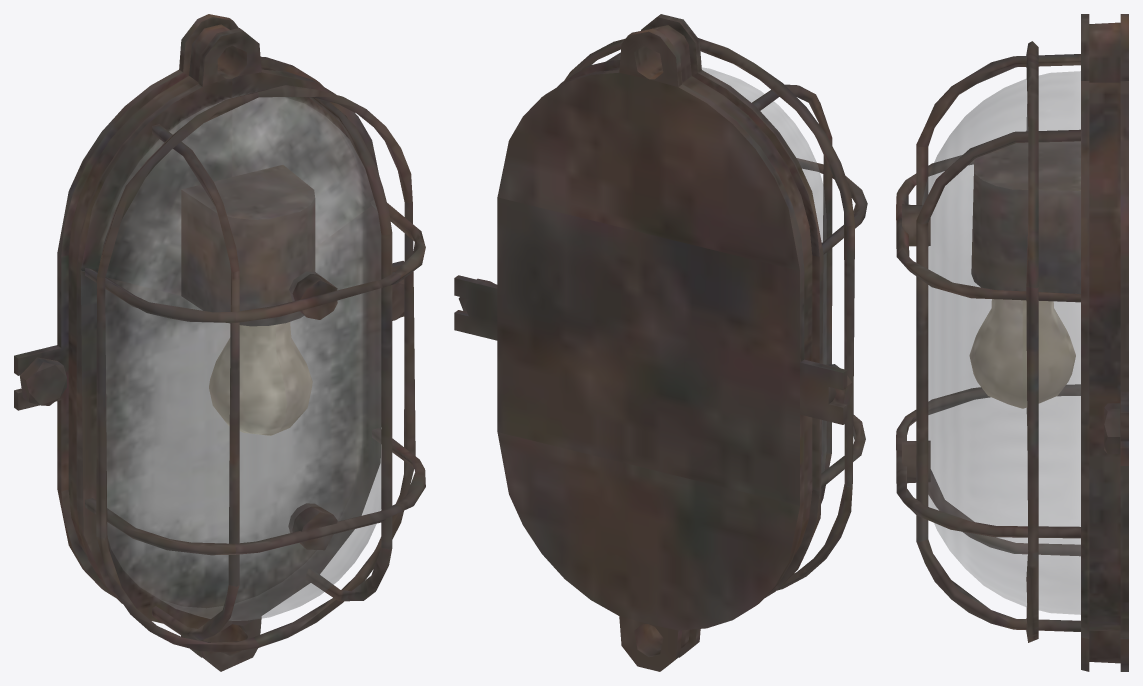
Rendered from industrial_wall_lamp.glb.
3 views of the same model, side by side, from view 1: azimuth 30°, elevation 25°; view 2: azimuth 150°, elevation 25°; view 3: azimuth 270°, elevation 25° (orthographic).
Visible parts, largest first — view 1: industrial_wall_lamp; view 2: industrial_wall_lamp; view 3: industrial_wall_lamp.
Part boxes in pixels (box(x1,y1,x2,y2)): industrial_wall_lamp: box(14, 14, 425, 671); industrial_wall_lamp: box(454, 14, 867, 671); industrial_wall_lamp: box(896, 14, 1128, 671).
Bounding box in the file's own units: 0.2734 × 0.4283 × 0.1393.
Materials: 2 (2 with a texture image).
